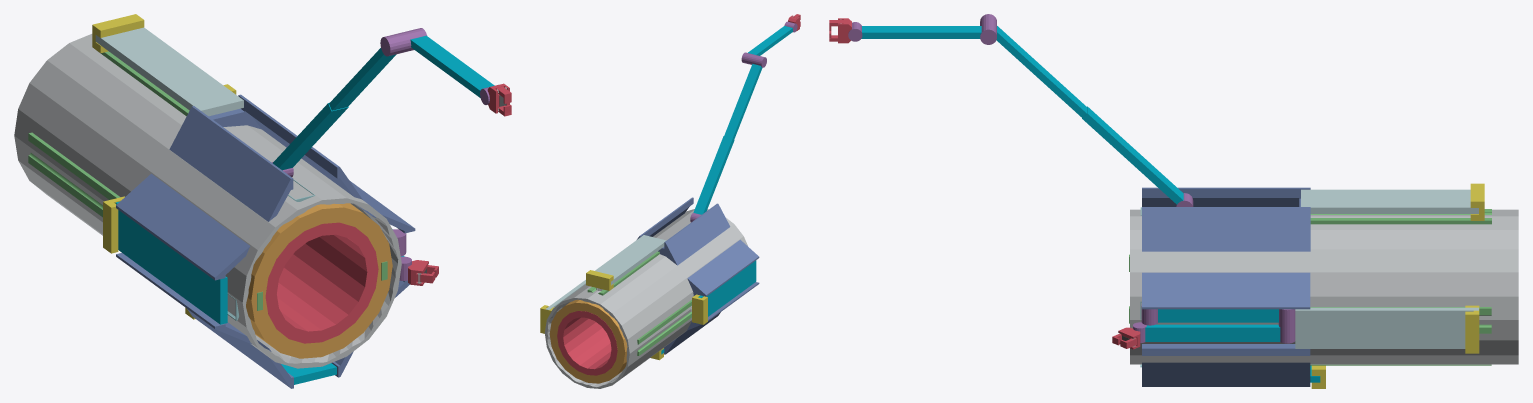
File: Docking system Official Passive.glb
3 views of the same model, side by side, from view 1: azimuth 30°, elevation 25°; view 2: azimuth 150°, elevation 25°; view 3: azimuth 270°, elevation 25° (orthographic). The views are drawn at different scales.
Visible parts, largest first — view 1: Mesh_Mesh_head_geo.001_lambert2SG.001; view 2: Mesh_Mesh_head_geo.001_lambert2SG.001; view 3: Mesh_Mesh_head_geo.001_lambert2SG.001.
Boxes of the visible parts, bbox=[...] form: Mesh_Mesh_head_geo.001_lambert2SG.001: bbox=[14, 14, 511, 388]; Mesh_Mesh_head_geo.001_lambert2SG.001: bbox=[540, 14, 800, 388]; Mesh_Mesh_head_geo.001_lambert2SG.001: bbox=[829, 14, 1518, 388].
Size of the model in its own units: 75.64 by 141 by 243.
